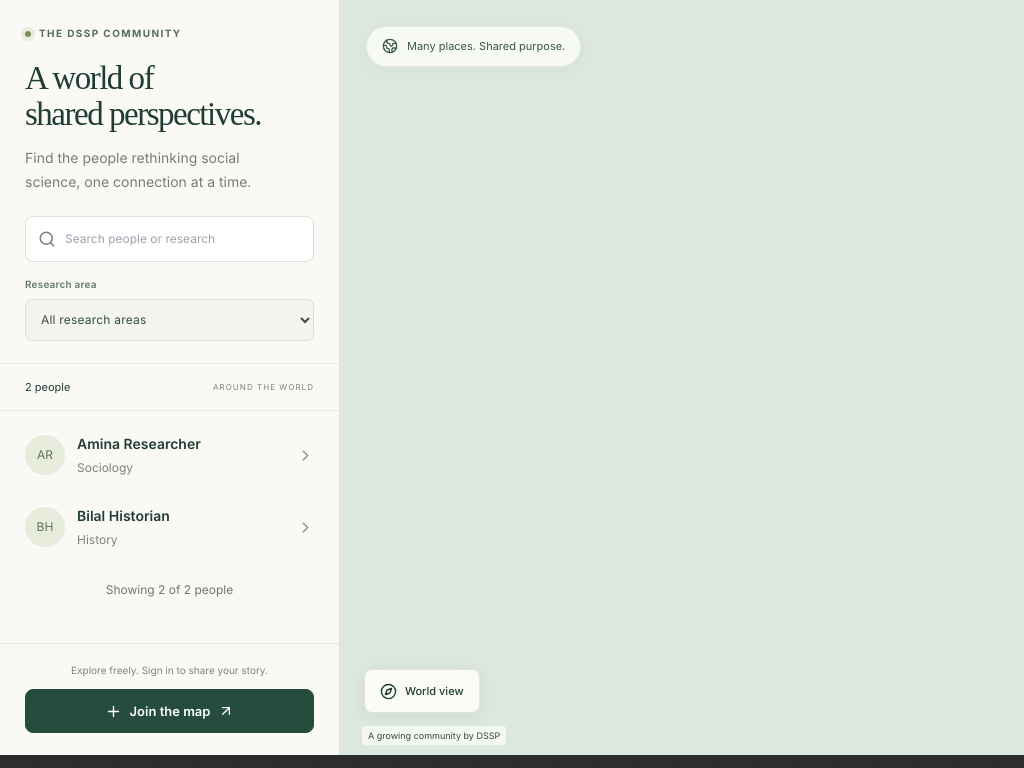
Test: community map interactions › lets guests search and filter people while contribution links lead to login
Expected: the button "AR Amina Researcher Sociology" is shown, 13,419 -> 326,491
Type "Amina" into the field named "Search people, research, or occupation".
click(183, 239); type("Amina")  # box 65,218 -> 301,260
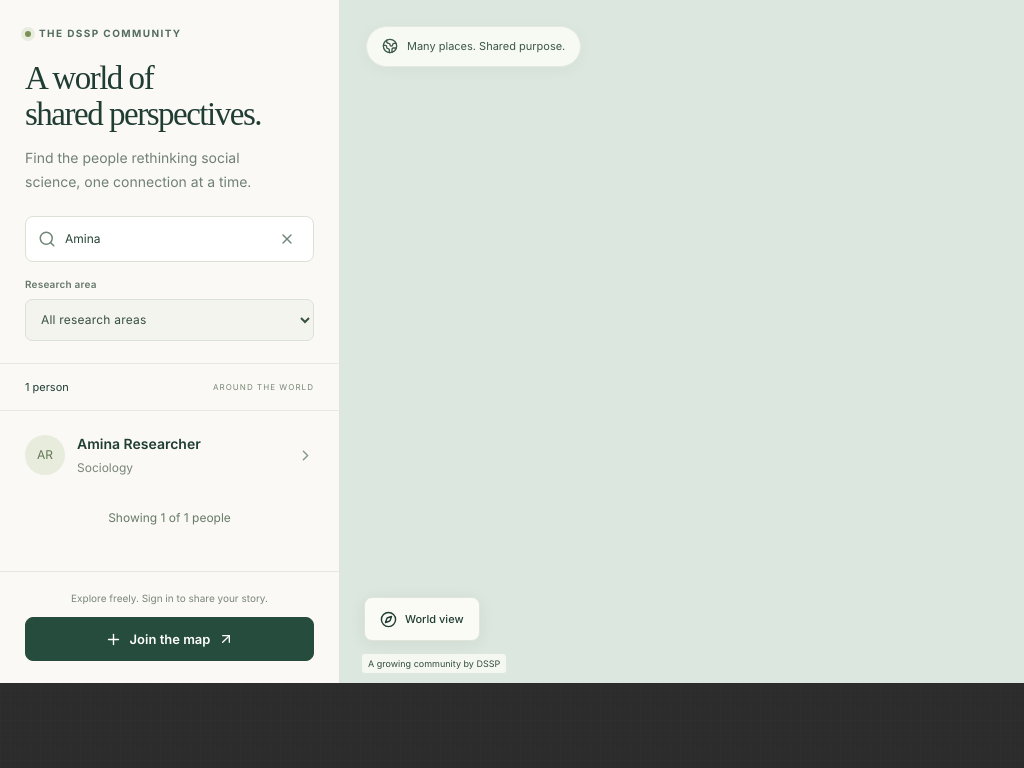
Now the button "Bilal Historian History" is gone
Click the button named "Clear search".
click(287, 239)  # box 273,223 -> 301,255
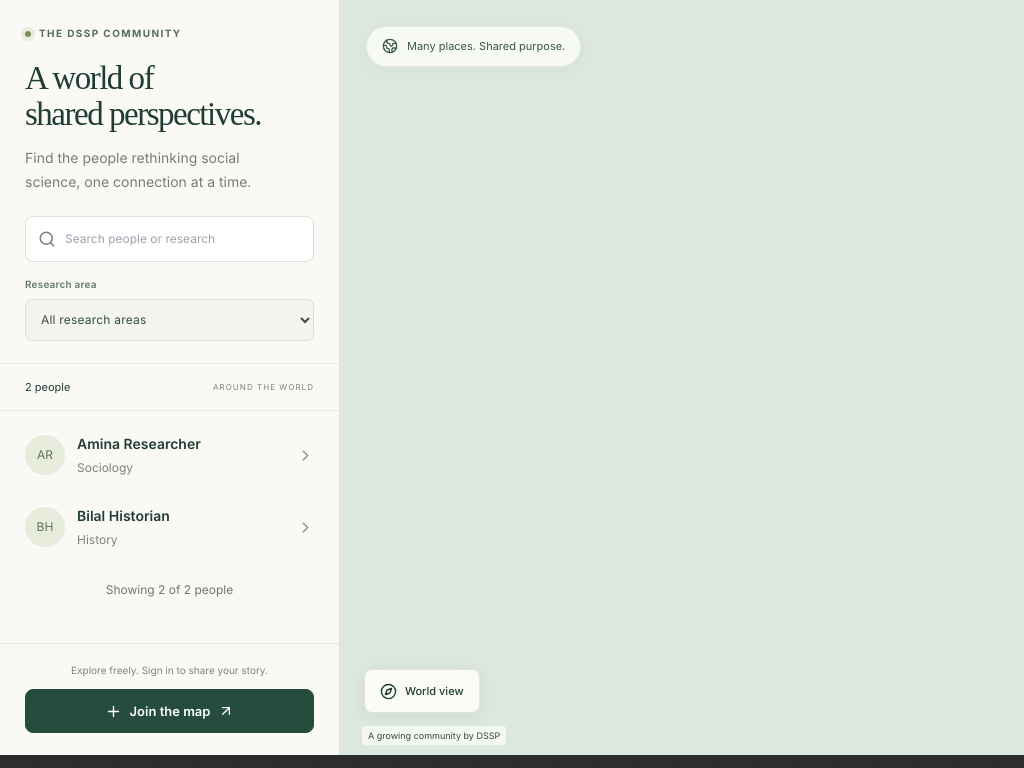
Select "History" in the dropdown labelled "Research area" at (170, 320), box 25,299 -> 314,341
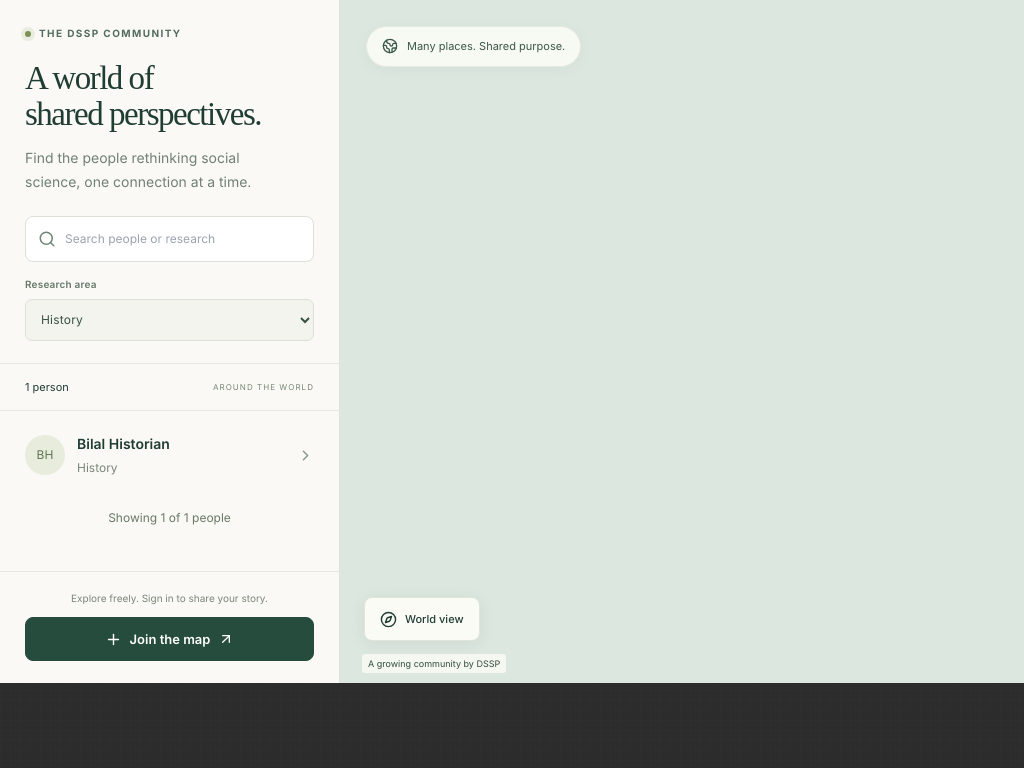
Now the button "BH Bilal Historian History" is shown, box 13,419 -> 326,491
Now the button "Amina Researcher Sociology" is gone
